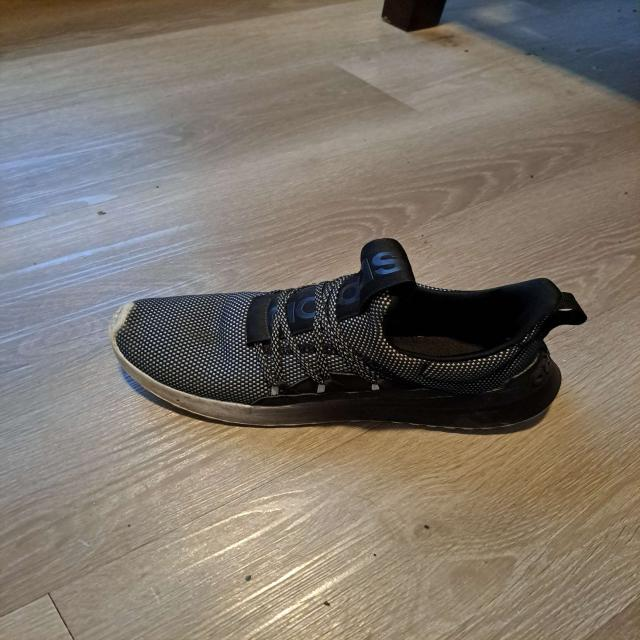shoes: (108, 237, 587, 430)
